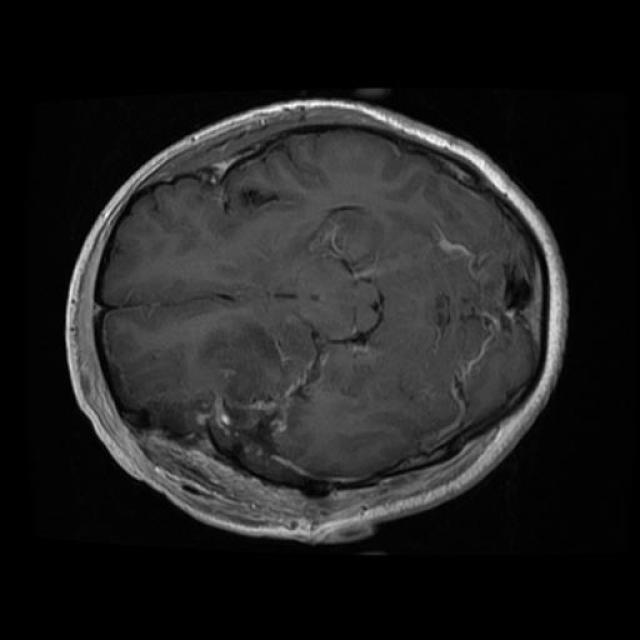Glioma: (160, 315, 325, 493)
